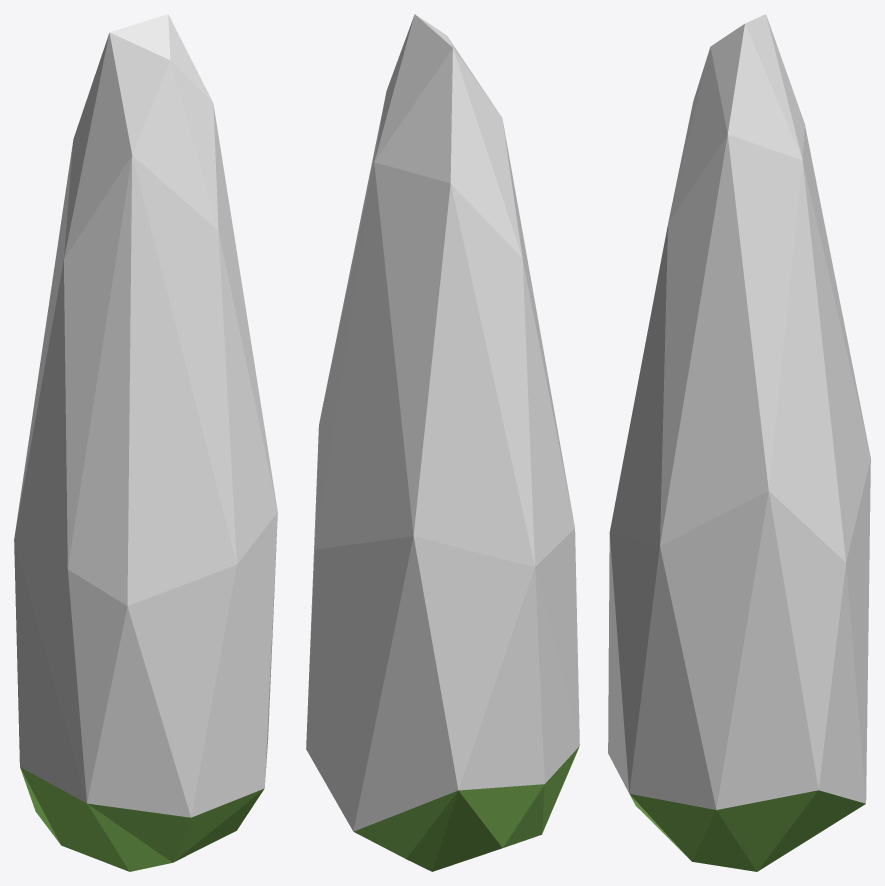
File: Thuja_BushTree_m_Snow_01.fbx
The picture shows the model from 3 angles, left to right: view 1: azimuth 30°, elevation 25°; view 2: azimuth 150°, elevation 25°; view 3: azimuth 270°, elevation 25°; orthographic projection.
Parts seen in each view (by area): view 1: Thuja_BushTree_m_Snow_01; view 2: Thuja_BushTree_m_Snow_01; view 3: Thuja_BushTree_m_Snow_01.
Part boxes in pixels (bbox=[...]): Thuja_BushTree_m_Snow_01: bbox=[14, 14, 277, 871]; Thuja_BushTree_m_Snow_01: bbox=[306, 14, 579, 871]; Thuja_BushTree_m_Snow_01: bbox=[608, 14, 870, 871].
Bounding box in the file's own units: 96.9 × 342 × 97.04.
